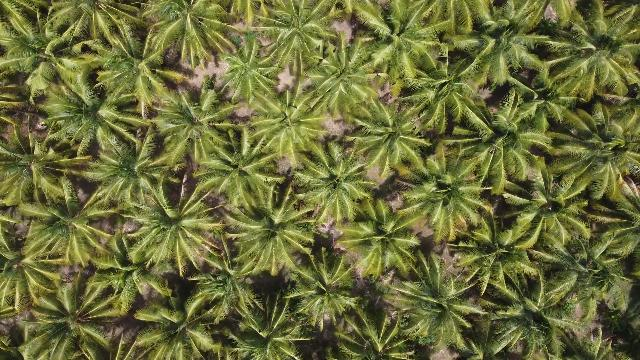trees: (439, 93, 547, 199), (442, 5, 558, 100), (535, 7, 639, 110), (539, 211, 639, 318), (89, 11, 183, 123), (478, 268, 587, 360), (122, 183, 225, 279), (3, 5, 98, 104), (544, 111, 639, 209), (220, 185, 315, 282), (393, 261, 488, 356), (22, 273, 125, 360), (357, 3, 452, 95), (196, 120, 289, 210), (342, 197, 435, 286), (3, 119, 88, 214), (404, 152, 492, 243), (82, 131, 174, 216), (452, 214, 539, 303), (505, 166, 592, 253), (151, 86, 235, 174), (20, 195, 114, 273), (290, 251, 372, 337), (293, 143, 376, 227), (305, 36, 382, 122), (133, 291, 228, 360), (348, 96, 428, 176), (221, 292, 311, 360), (87, 233, 162, 314), (51, 3, 145, 65), (146, 4, 229, 71), (217, 40, 282, 110), (2, 262, 38, 318)
